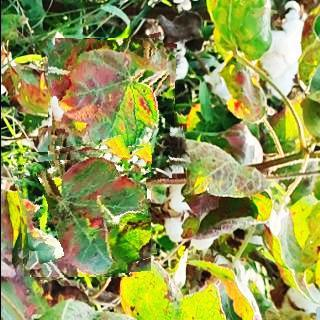blight: (47, 38, 183, 184), (16, 145, 150, 277)
